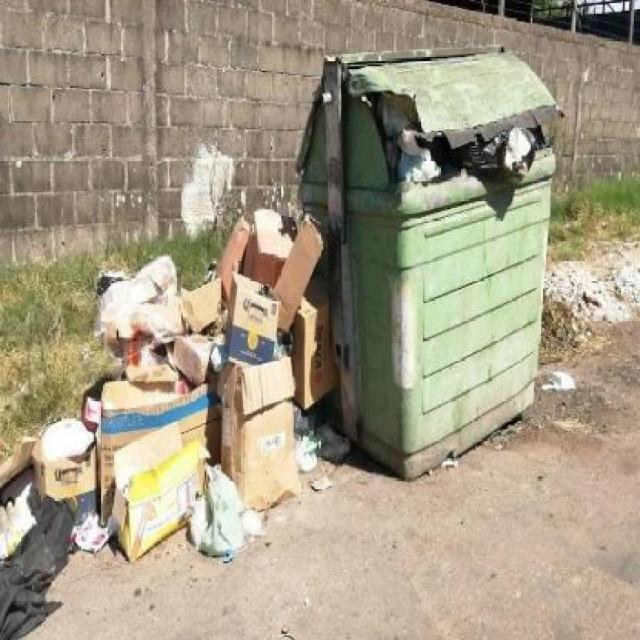garbage: (9, 191, 330, 638), (428, 119, 551, 179), (377, 99, 430, 185)
